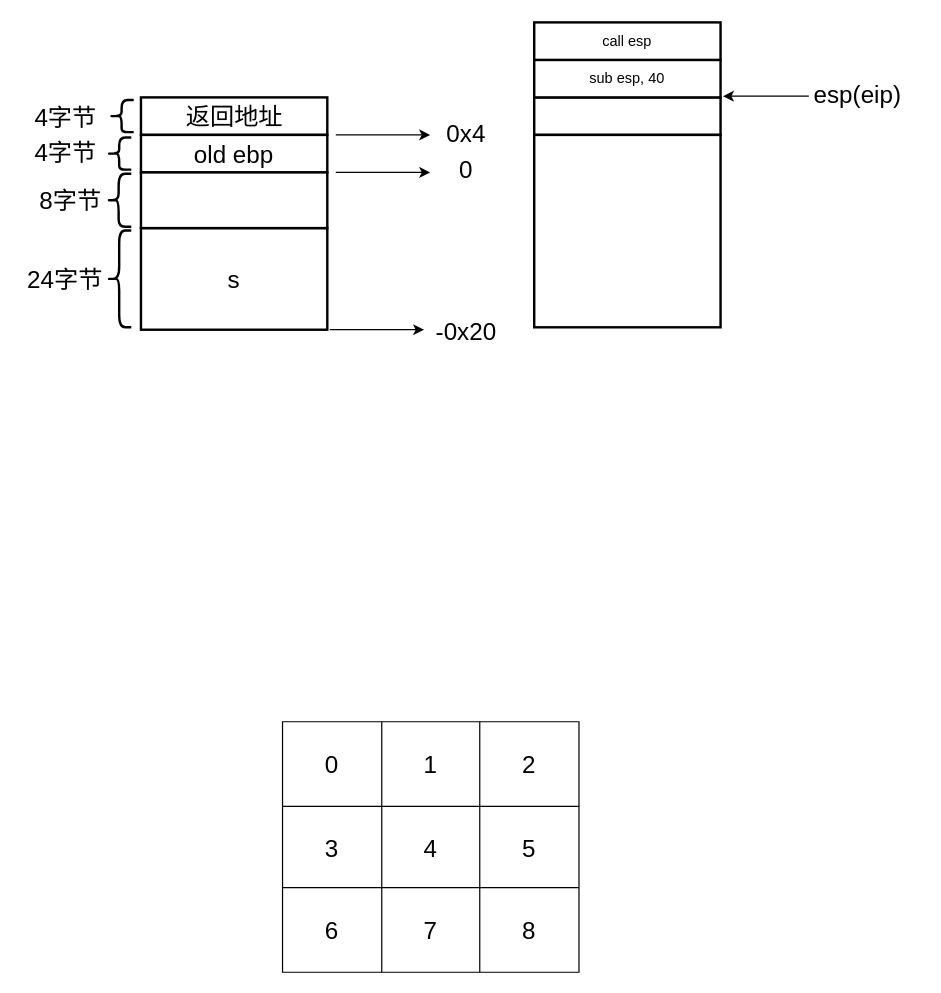
Some shapes in this 941 by 993 pixel diagram are drawn without their labels. The centre of each missing label's shape, as x and y in pixels:
0x8048554: the point at 626,116
shellcode: the point at 626,230
